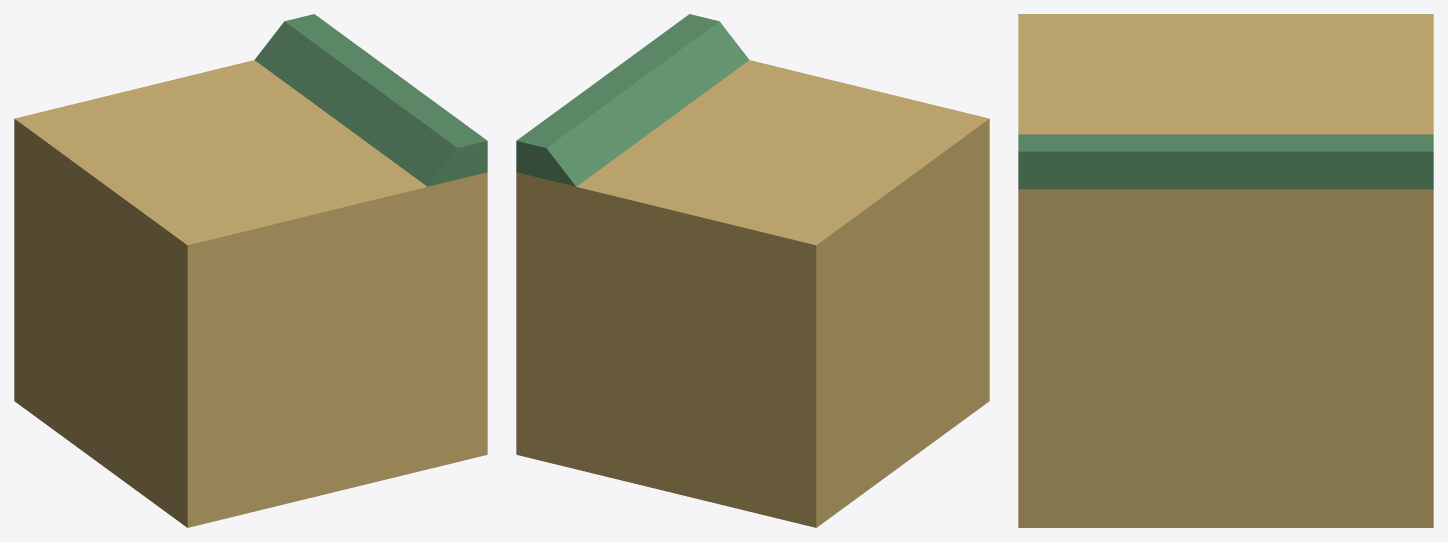
Rendered from path-edge.glb.
3 views of the same model, side by side, from view 1: azimuth 30°, elevation 25°; view 2: azimuth 150°, elevation 25°; view 3: azimuth 270°, elevation 25° (orthographic). The views are drawn at different scales.
Visible parts, largest first — view 1: Path - Edge; view 2: Path - Edge; view 3: Path - Edge.
Boxes of the visible parts, x1,y1,x2,y2 form: Path - Edge: (14,14,487,527); Path - Edge: (516,14,989,527); Path - Edge: (1018,14,1433,527).
Size of the model in its own units: 1 by 1 by 1.
